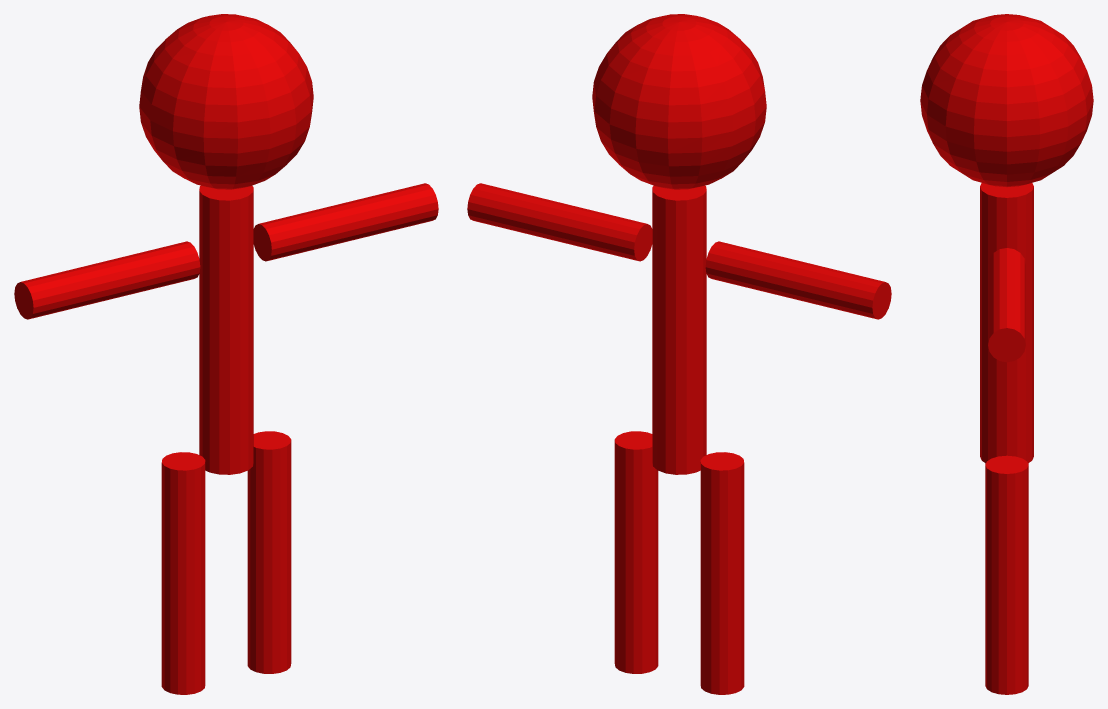
Rendered from Musuh_Smooth.obj.
3 renders of one model, left to right at view 1: azimuth 30°, elevation 25°; view 2: azimuth 150°, elevation 25°; view 3: azimuth 270°, elevation 25°, orthographic.
Visible parts, largest first — view 1: Musuh; view 2: Musuh; view 3: Musuh.
Boxes of the visible parts, x1,y1,x2,y2 form: Musuh: (14, 14, 438, 694); Musuh: (467, 14, 891, 694); Musuh: (920, 14, 1093, 694).
Size of the model in its own units: 1.7 by 2.62 by 0.64.
